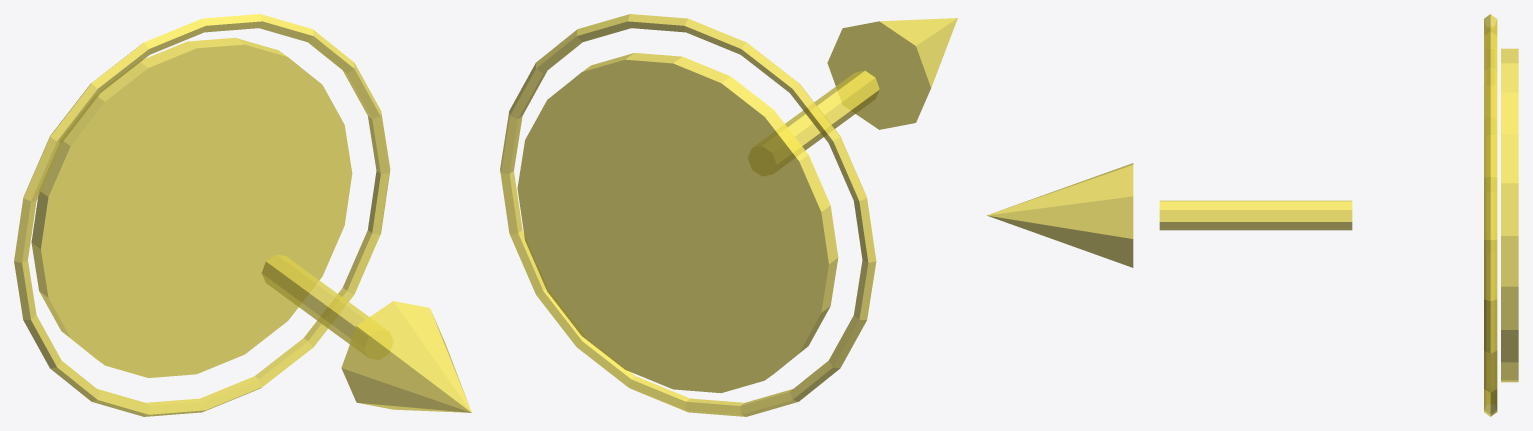
Rendered from 09_objective_beam_marker.glb.
3 views of the same model, side by side, from view 1: azimuth 30°, elevation 25°; view 2: azimuth 150°, elevation 25°; view 3: azimuth 270°, elevation 25° (orthographic). The views are drawn at different scales.
Parts seen in each view (by area): view 1: base_disc, base_ring, arrow_head, arrow_stem; view 2: base_disc, base_ring, arrow_head, arrow_stem; view 3: arrow_head, base_disc, arrow_stem, base_ring.
Part boxes in pixels (x1=…): base_disc: x1=31, y1=37, x2=352, y2=377; base_ring: x1=14, y1=14, x2=390, y2=416; arrow_head: x1=341, y1=301, x2=471, y2=412; arrow_stem: x1=261, y1=254, x2=369, y2=344; base_disc: x1=517, y1=53, x2=838, y2=393; base_ring: x1=500, y1=14, x2=876, y2=416; arrow_head: x1=827, y1=18, x2=957, y2=129; arrow_stem: x1=785, y1=70, x2=879, y2=150; arrow_head: x1=986, y1=163, x2=1133, y2=267; base_disc: x1=1501, y1=48, x2=1518, y2=382; arrow_stem: x1=1159, y1=200, x2=1352, y2=230; base_ring: x1=1484, y1=14, x2=1497, y2=416.
Bounding box in the file's own units: 1.16 × 1.16 × 1.52.
